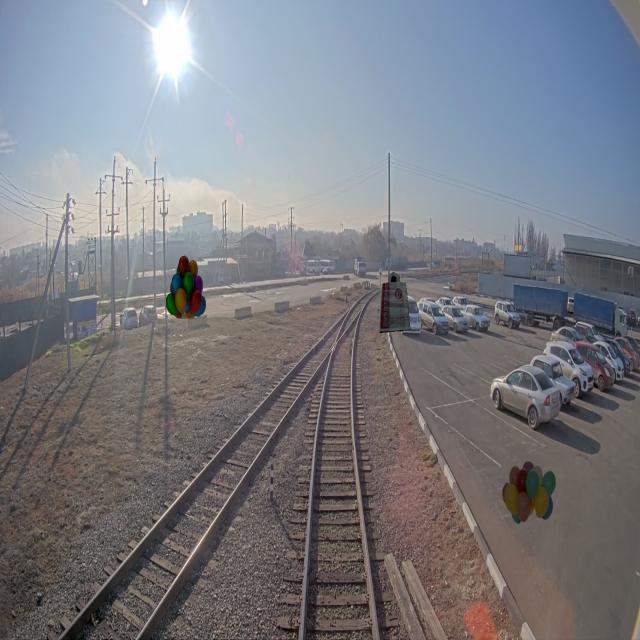balloon: (502, 460, 556, 524), (166, 255, 206, 319)
plastic bag: (379, 270, 410, 334)
